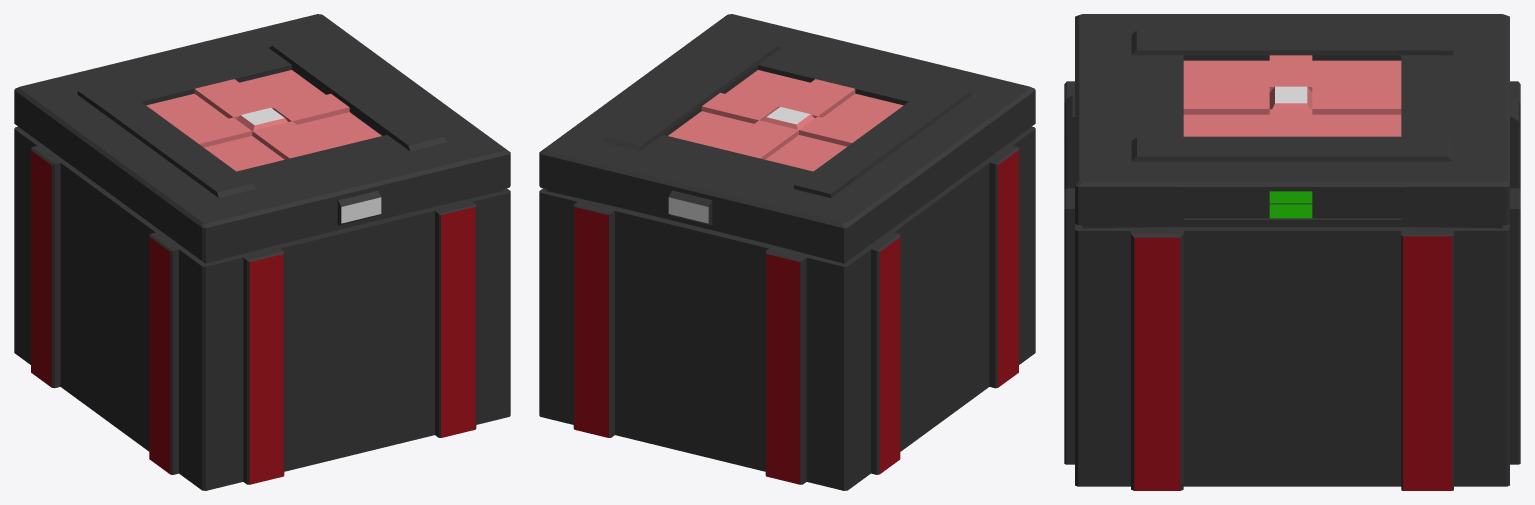
3 renders of one model, left to right at view 1: azimuth 30°, elevation 25°; view 2: azimuth 150°, elevation 25°; view 3: azimuth 270°, elevation 25°, orthographic. The views are drawn at different scales.
Parts seen in each view (by area): view 1: Cube; view 2: Cube; view 3: Cube.
Part boxes in pixels (bbox=[...]): Cube: bbox=[14, 14, 510, 490]; Cube: bbox=[539, 14, 1035, 490]; Cube: bbox=[1064, 14, 1520, 490].
Size of the model in its own units: 255 by 203 by 273.
